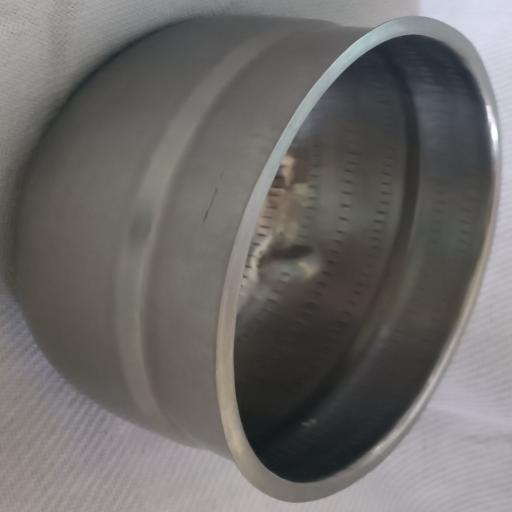vessel: (16, 17, 499, 501)
